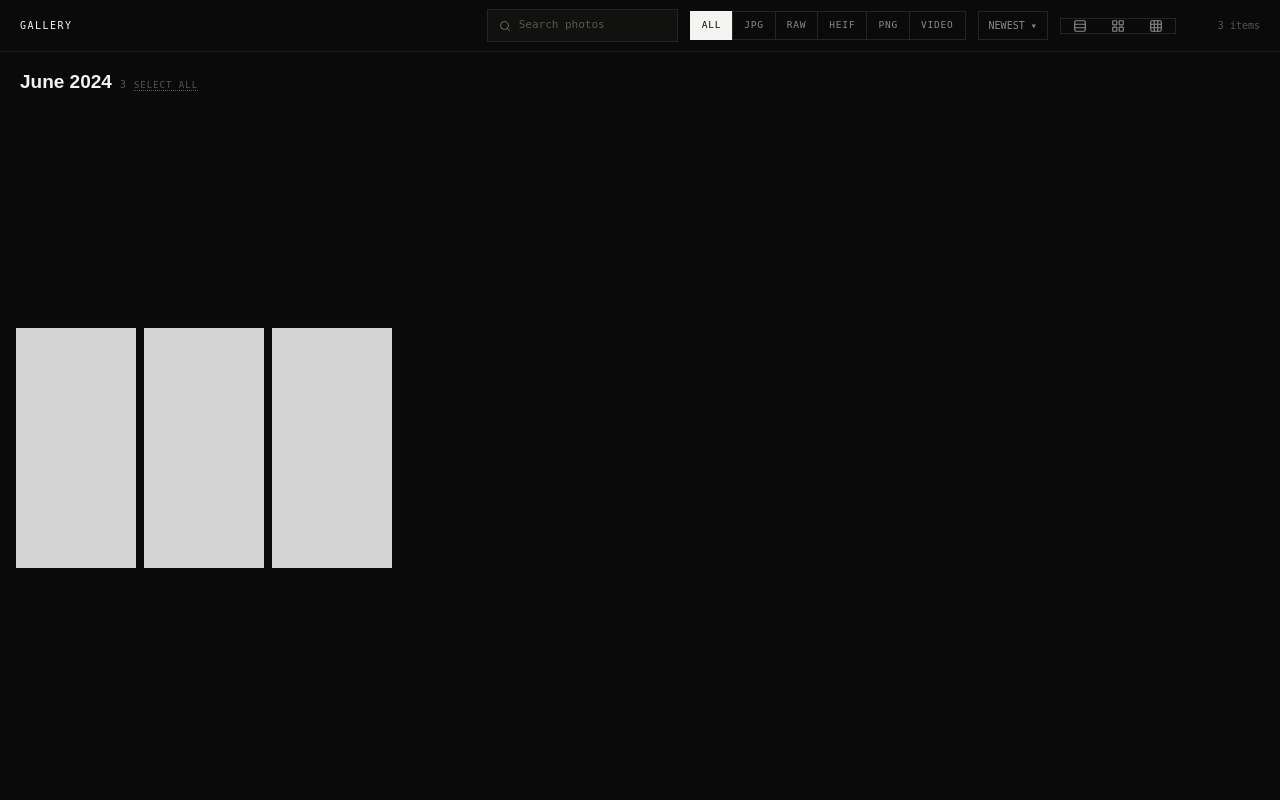
Test: shows the selection bar with a count after a cmd-click
Click the button named "photos/" at (76, 448), box [16,328,136,568]
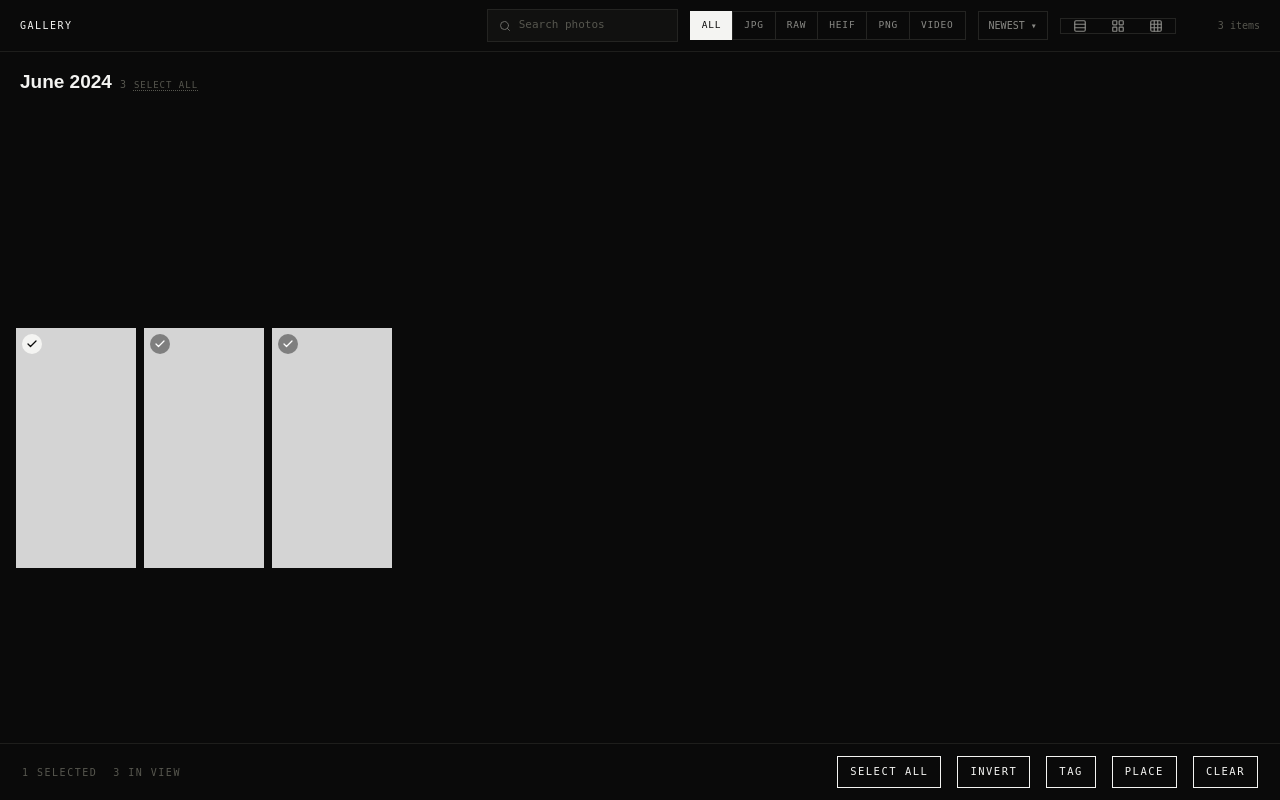
Expected: the text "1 SELECTED" is shown, [22,764,97,780]
